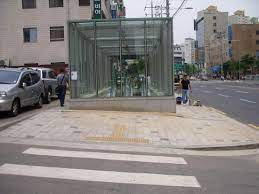guide_blocks: (84, 137, 151, 143), (112, 124, 125, 136)
